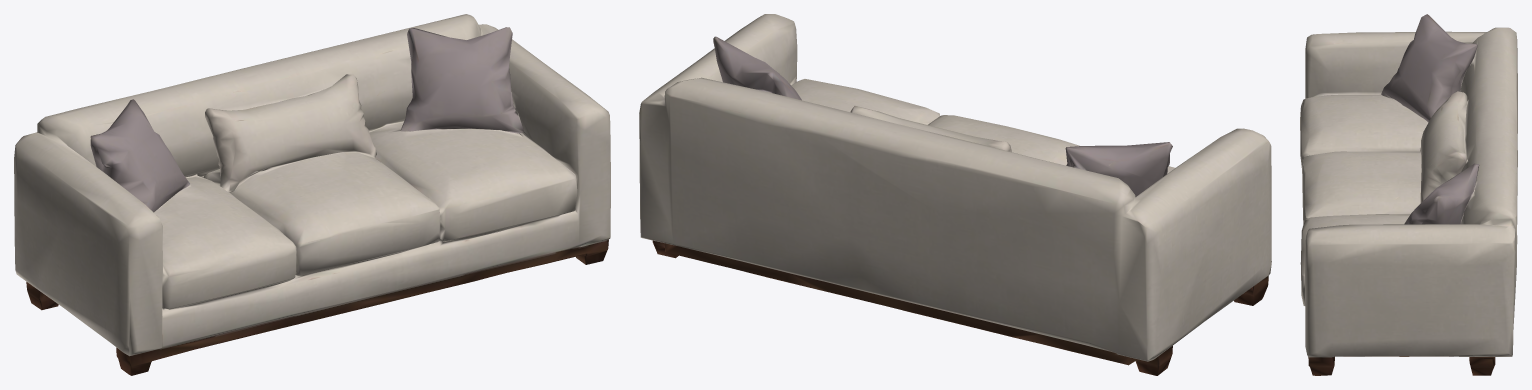
Rendered from hotel-lounge-sofa.glb.
3 views of the same model, side by side, from view 1: azimuth 30°, elevation 25°; view 2: azimuth 150°, elevation 25°; view 3: azimuth 270°, elevation 25° (orthographic). The views are drawn at different scales.
Parts seen in each view (by area): view 1: world; view 2: world; view 3: world.
Part boxes in pixels (x1=…): world: x1=14, y1=14, x2=610, y2=375; world: x1=639, y1=14, x2=1271, y2=375; world: x1=1300, y1=14, x2=1517, y2=375.
Size of the model in its own units: 1 by 0.3692 by 0.4316.
1 material, 1 textured.
